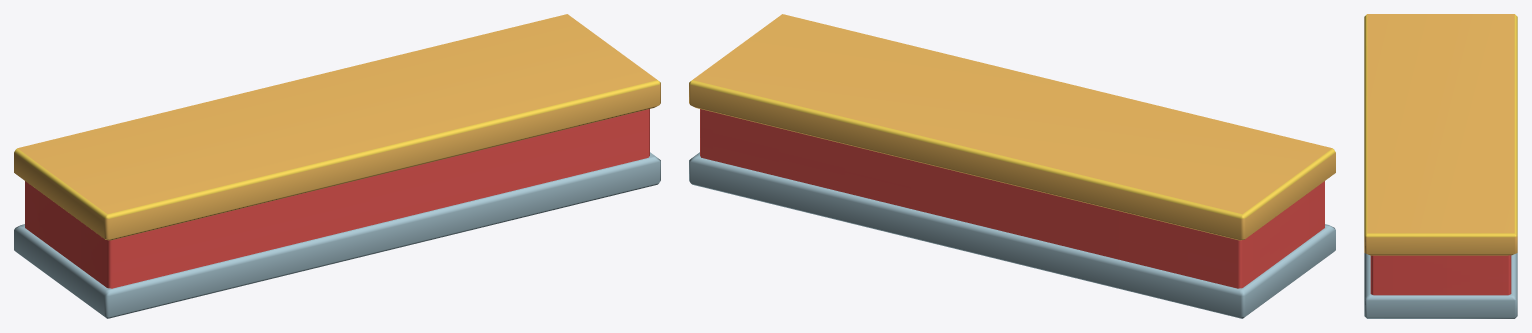
Rendered from Decor_Banlambep_B.fbx.
3 views of the same model, side by side, from view 1: azimuth 30°, elevation 25°; view 2: azimuth 150°, elevation 25°; view 3: azimuth 270°, elevation 25° (orthographic). The views are drawn at different scales.
Parts seen in each view (by area): view 1: Decor_Banlambep_B; view 2: Decor_Banlambep_B; view 3: Decor_Banlambep_B.
Part boxes in pixels (x1,y1,x2,y2): Decor_Banlambep_B: (14,14,660,318); Decor_Banlambep_B: (689,14,1335,318); Decor_Banlambep_B: (1364,14,1517,318).
Size of the model in its own units: 417 by 74.96 by 122.
